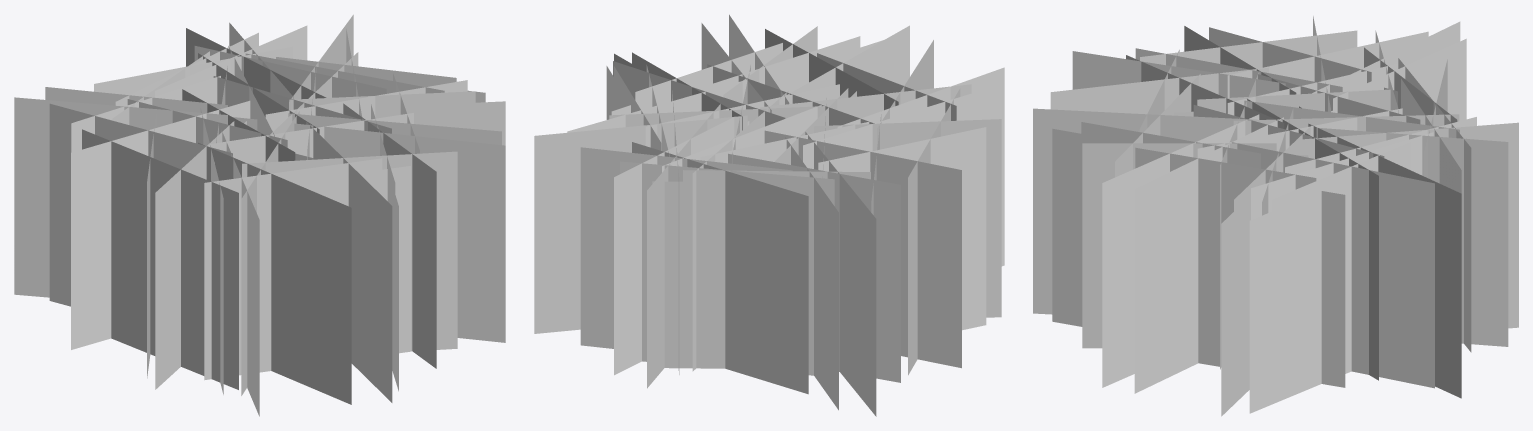
The model's file is Grass.fbx.
3 views of the same model, side by side, from view 1: azimuth 30°, elevation 25°; view 2: azimuth 150°, elevation 25°; view 3: azimuth 270°, elevation 25° (orthographic). The views are drawn at different scales.
Visible parts, largest first — view 1: Grass1, Grass3, Grass2; view 2: Grass2, Grass3, Grass1; view 3: Grass2, Grass1, Grass3.
Part boxes in pixels (x1,y1,x2,y2): Grass1: (45, 22, 501, 416); Grass3: (14, 25, 505, 404); Grass2: (49, 14, 505, 402); Grass2: (534, 14, 1001, 394); Grass3: (567, 26, 986, 416); Grass1: (613, 23, 1004, 410); Grass2: (1033, 26, 1518, 413); Grass1: (1052, 16, 1508, 393); Grass3: (1050, 21, 1476, 416).
Bounding box in the file's own units: 37.33 × 35.99 × 17.37.
